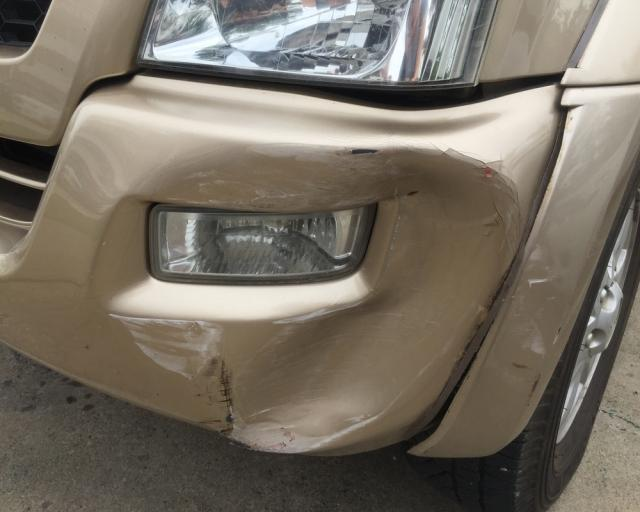dent: (236, 147, 522, 452)
scratch: (104, 311, 239, 438), (172, 137, 382, 214)
